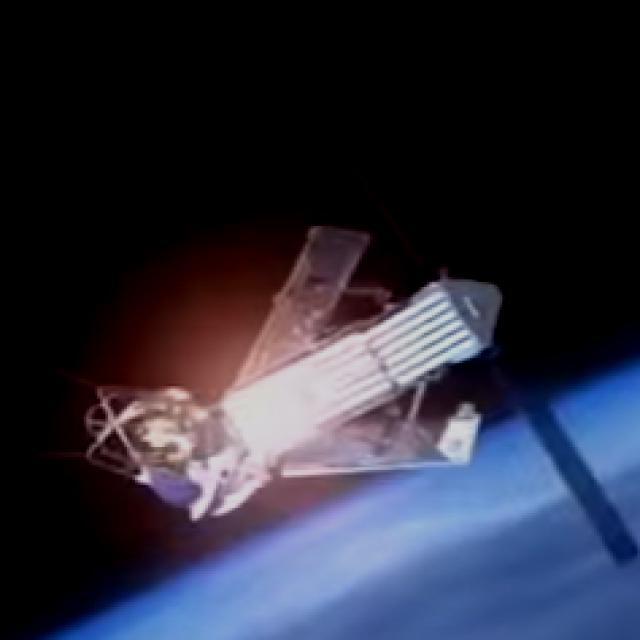large_debris: (71, 206, 511, 546)
